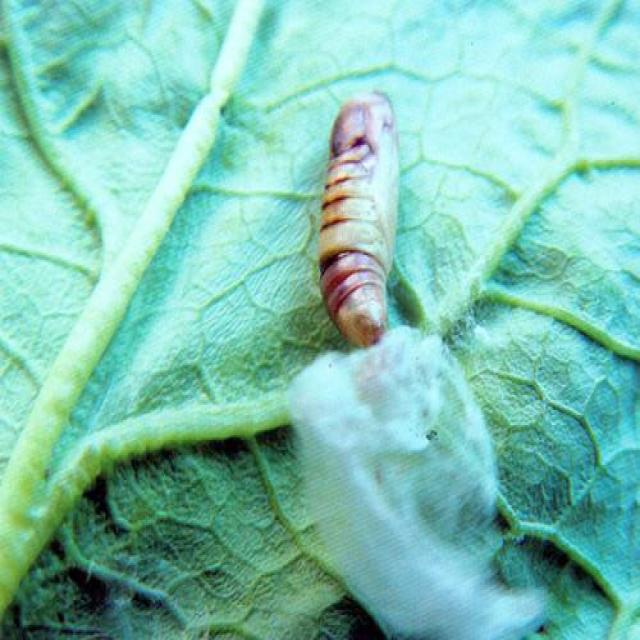armyworm: (321, 78, 404, 341)
